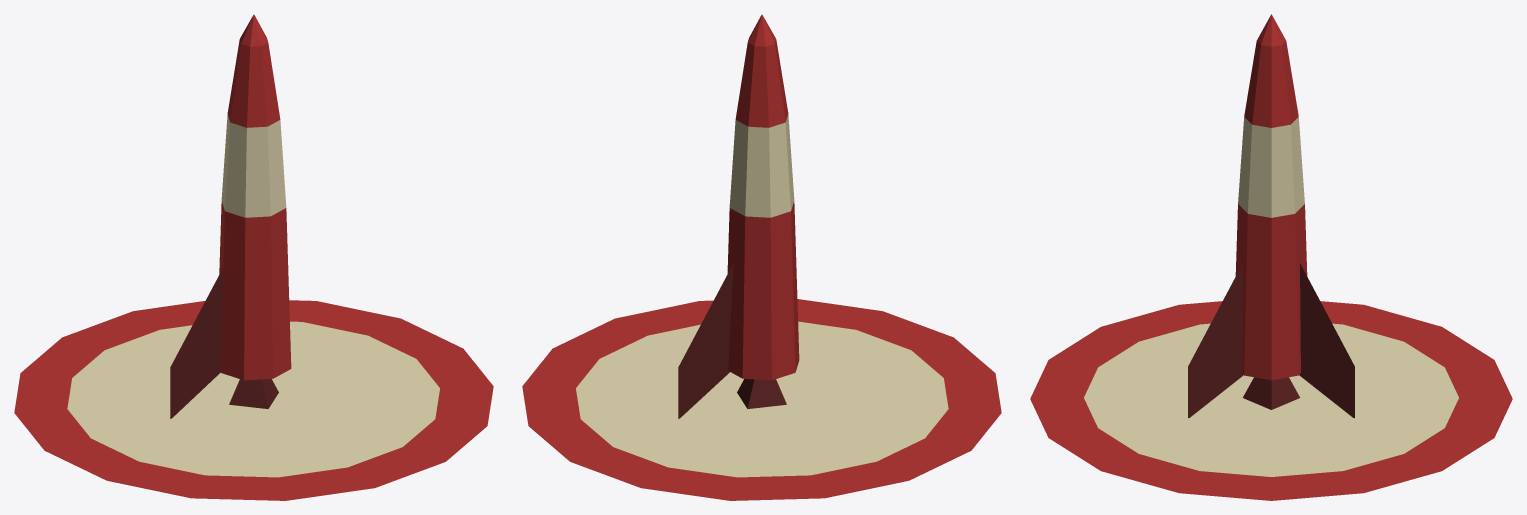
File: Rocket.fbx
3 renders of one model, left to right at view 1: azimuth 30°, elevation 25°; view 2: azimuth 150°, elevation 25°; view 3: azimuth 270°, elevation 25°, orthographic.
Parts seen in each view (by area): view 1: Inner Ripple.001, Outer Ripple.001, Rocket, Wings, Base.002; view 2: Inner Ripple.001, Outer Ripple.001, Rocket, Wings, Base.002; view 3: Inner Ripple.001, Outer Ripple.001, Rocket, Wings, Base.002.
Part boxes in pixels (x1,y1,x2,y2): Inner Ripple.001: [67, 321, 439, 477]; Outer Ripple.001: [14, 300, 493, 500]; Rocket: [219, 14, 291, 380]; Wings: [170, 268, 223, 418]; Base.002: [229, 379, 278, 408]; Inner Ripple.001: [576, 321, 948, 477]; Outer Ripple.001: [522, 299, 1001, 500]; Rocket: [727, 14, 799, 380]; Wings: [678, 263, 733, 418]; Base.002: [737, 379, 786, 408]; Inner Ripple.001: [1084, 323, 1458, 476]; Outer Ripple.001: [1030, 301, 1512, 500]; Rocket: [1235, 14, 1307, 380]; Wings: [1188, 263, 1354, 418]; Base.002: [1243, 377, 1299, 409].
Size of the model in its own units: 5000 by 4400 by 5000.
